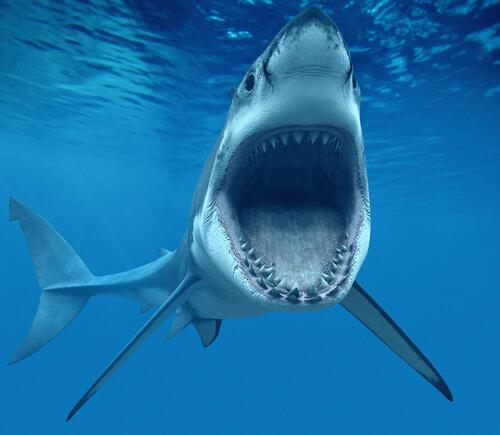shark: (5, 6, 454, 423)
